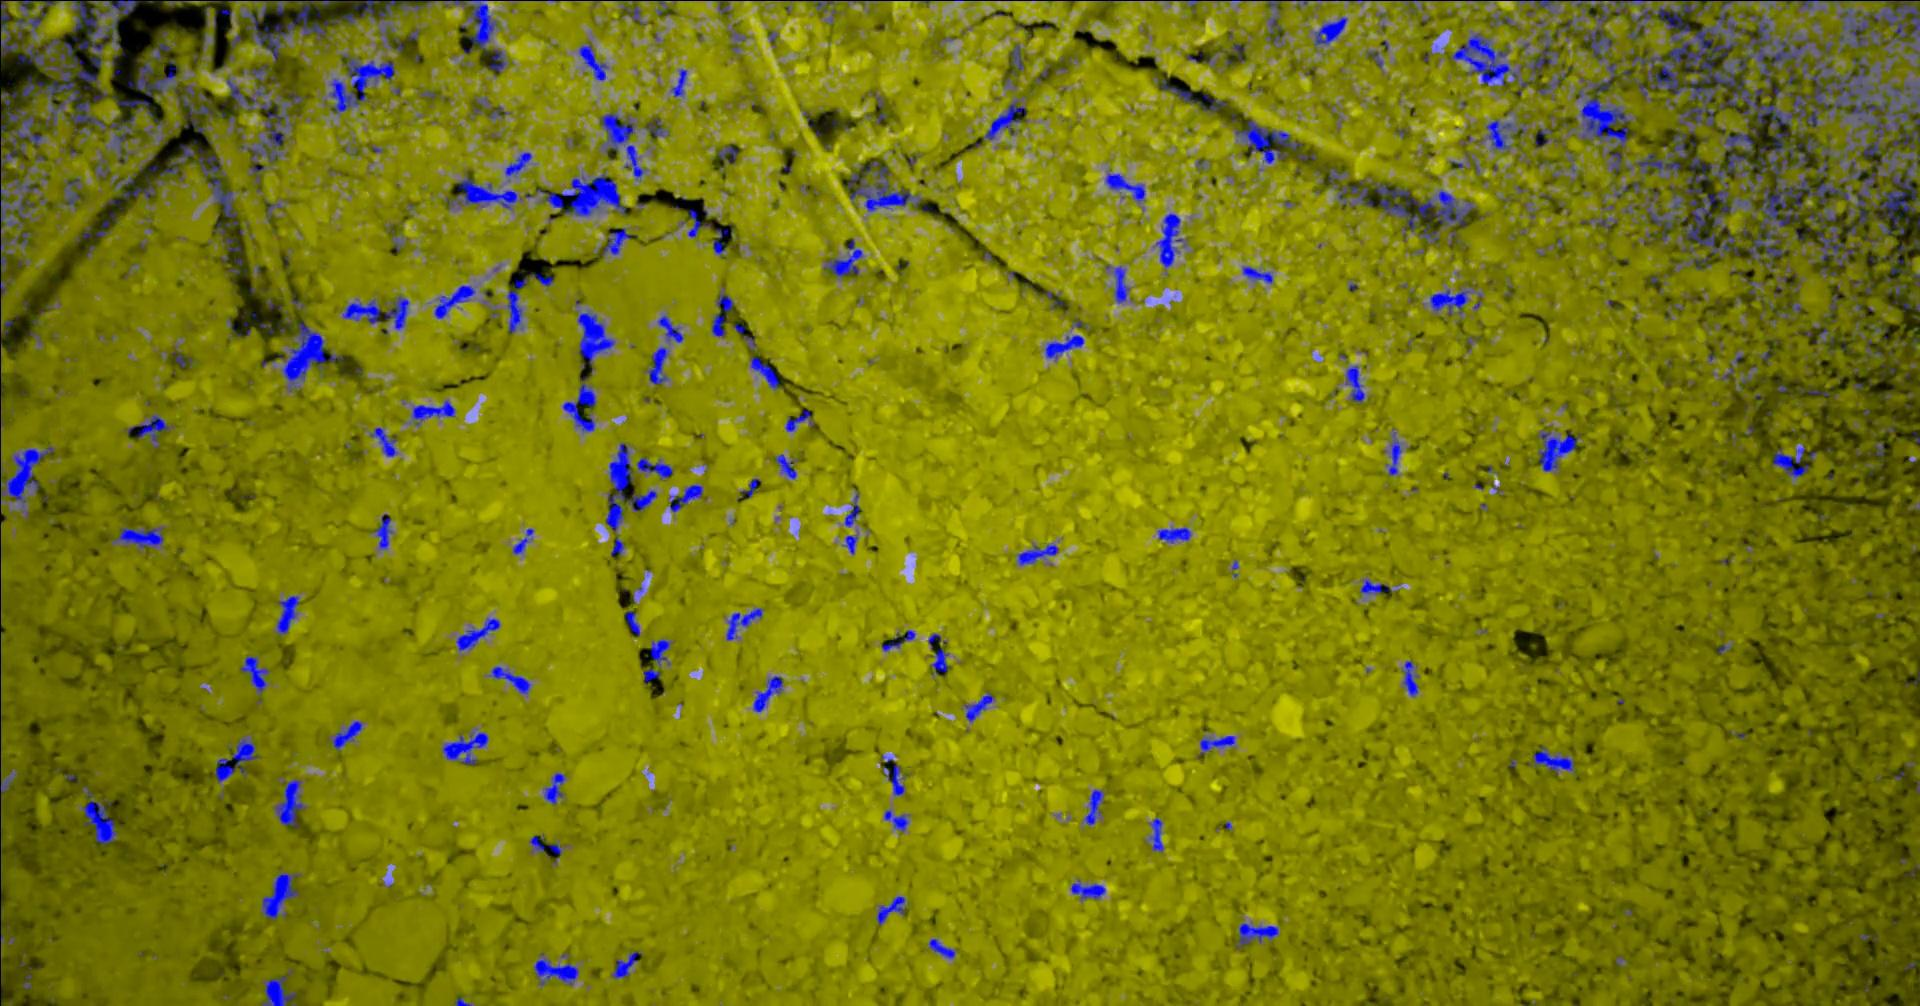ant: (1609, 130, 1688, 198), (599, 112, 646, 180), (505, 272, 552, 333), (1643, 187, 1688, 244), (1156, 77, 1225, 112), (577, 311, 615, 373), (1867, 244, 1911, 295), (1321, 166, 1373, 210), (80, 786, 117, 845), (215, 734, 259, 782), (982, 98, 1027, 138), (260, 873, 300, 920), (563, 377, 596, 432), (1537, 429, 1578, 471), (0, 699, 17, 798), (1156, 213, 1186, 267), (441, 730, 488, 765), (823, 238, 862, 277), (126, 414, 171, 447), (533, 951, 578, 984), (274, 779, 305, 826), (455, 619, 499, 650), (434, 285, 475, 318), (1481, 119, 1526, 149), (110, 526, 163, 551), (1429, 285, 1472, 315), (1528, 746, 1575, 774), (75, 212, 117, 243), (484, 666, 530, 694), (725, 607, 763, 640), (643, 638, 670, 682), (1105, 171, 1145, 202), (1517, 0, 1592, 17), (1771, 445, 1808, 478), (410, 399, 455, 426), (239, 655, 269, 694), (711, 285, 733, 337), (752, 674, 782, 711), (1236, 922, 1277, 949), (1313, 17, 1347, 48), (749, 356, 781, 389), (328, 720, 362, 751), (578, 44, 607, 80), (880, 754, 905, 795), (260, 976, 295, 1005), (1103, 264, 1129, 304), (1044, 334, 1083, 359), (530, 835, 561, 865), (342, 298, 381, 323), (276, 594, 298, 635), (602, 227, 635, 255), (110, 95, 152, 117), (964, 692, 994, 721), (669, 484, 702, 511), (1016, 544, 1057, 565), (383, 295, 409, 329), (876, 895, 905, 925), (1383, 428, 1401, 475), (472, 97, 510, 118), (370, 427, 397, 456), (1601, 149, 1632, 175), (611, 951, 641, 978), (648, 345, 668, 384), (636, 457, 672, 479), (1343, 365, 1364, 401), (504, 152, 531, 180), (657, 314, 683, 342), (1718, 349, 1743, 379), (881, 630, 916, 652), (1070, 879, 1105, 901), (542, 772, 565, 804), (372, 513, 392, 549), (1083, 789, 1103, 824), (711, 224, 733, 257), (1266, 0, 1283, 42), (58, 177, 83, 205), (1537, 72, 1566, 95), (687, 208, 710, 238), (1813, 323, 1835, 353), (783, 409, 814, 431), (1199, 735, 1236, 753), (1401, 661, 1418, 696), (733, 323, 756, 349), (883, 809, 909, 832), (1147, 815, 1163, 851), (621, 0, 644, 25), (1743, 277, 1764, 305), (1855, 320, 1887, 338), (1858, 339, 1883, 361), (775, 453, 796, 479), (512, 528, 533, 554), (1242, 265, 1272, 283), (844, 492, 860, 527), (928, 937, 955, 958), (1157, 527, 1191, 542), (171, 345, 196, 367), (643, 117, 668, 137), (930, 648, 949, 674), (1531, 126, 1553, 149), (1359, 579, 1390, 594), (385, 224, 403, 250), (143, 118, 166, 138), (1580, 217, 1610, 232), (1680, 255, 1710, 271), (1008, 43, 1023, 71), (670, 69, 686, 97), (94, 151, 109, 179), (1224, 42, 1244, 62), (1823, 293, 1837, 323), (265, 199, 283, 222), (1669, 184, 1684, 210), (1043, 290, 1063, 309), (740, 478, 759, 498), (1848, 158, 1865, 179), (625, 610, 639, 635), (1798, 384, 1829, 395), (717, 145, 737, 163), (0, 278, 13, 304), (730, 32, 745, 52), (842, 533, 857, 554), (808, 0, 834, 11), (378, 25, 392, 47), (1731, 196, 1752, 210), (1366, 50, 1382, 69), (138, 161, 157, 177), (222, 238, 243, 251), (1491, 14, 1515, 25), (610, 536, 623, 555), (876, 97, 885, 123), (1404, 0, 1422, 13), (1782, 301, 1801, 312), (1874, 442, 1883, 465), (716, 0, 729, 15), (0, 319, 13, 334), (657, 0, 668, 15), (0, 812, 1, 885)
